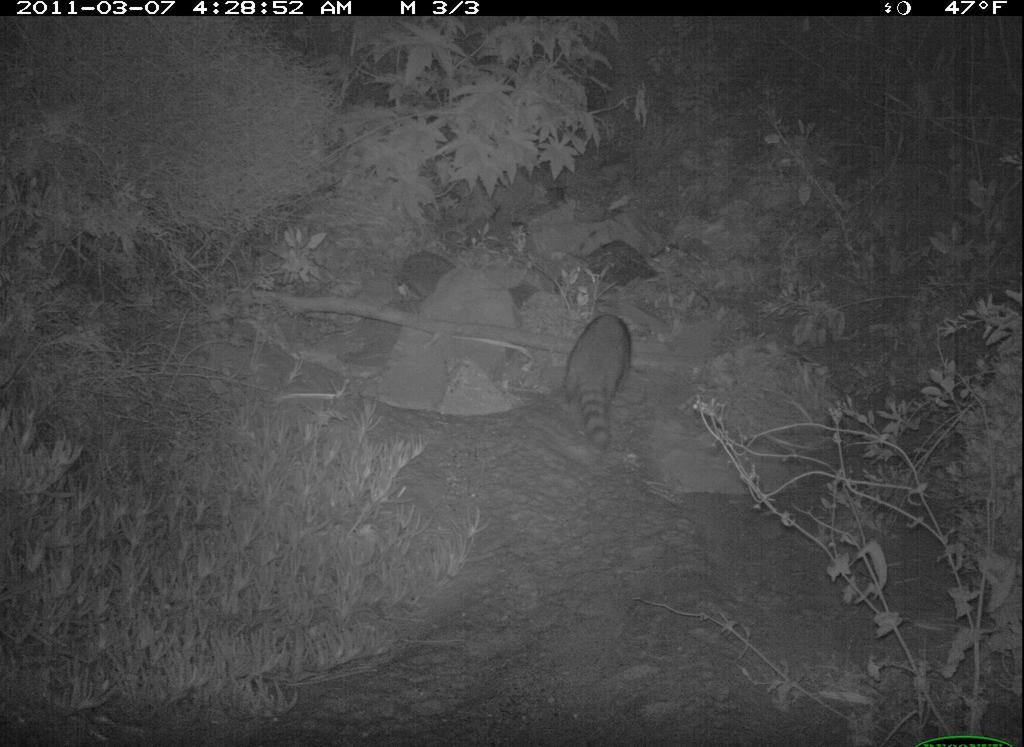raccoon: (555, 305, 643, 456)
